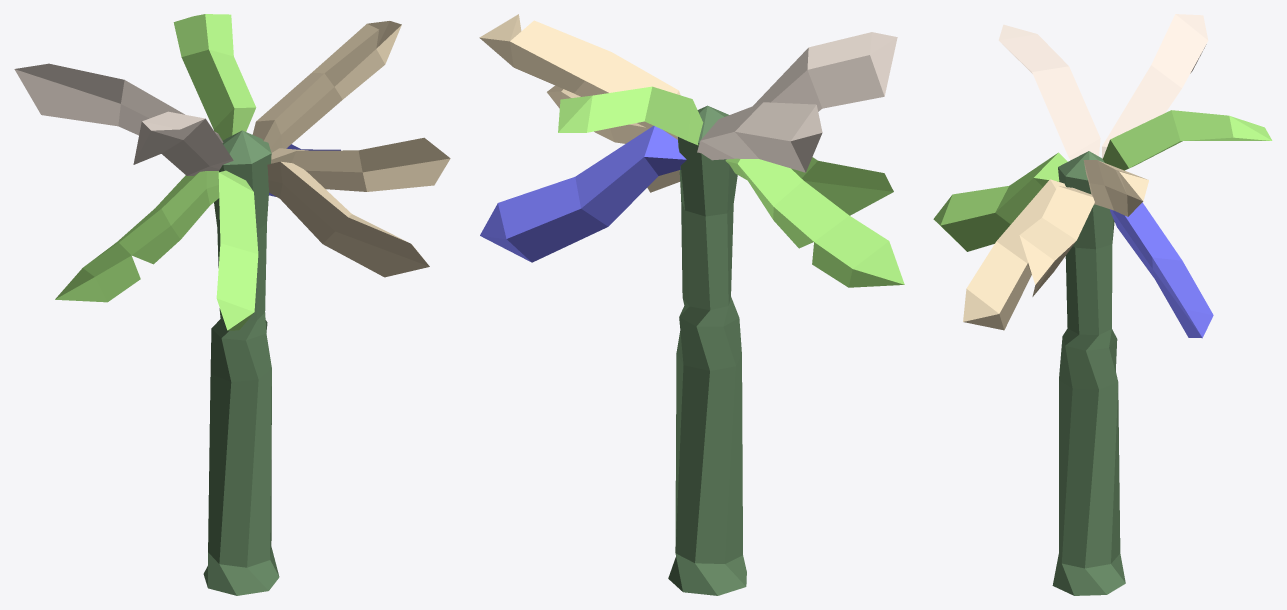
Rendered from 008_Palm.fbx.
3 renders of one model, left to right at view 1: azimuth 30°, elevation 25°; view 2: azimuth 150°, elevation 25°; view 3: azimuth 270°, elevation 25°, orthographic. The views are drawn at different scales.
Visible parts, largest first — view 1: Palm; view 2: Palm; view 3: Palm.
Part boxes in pixels (x1=…): Palm: x1=14, y1=14, x2=450, y2=595; Palm: x1=479, y1=14, x2=904, y2=595; Palm: x1=933, y1=14, x2=1272, y2=595.
Size of the model in its own units: 132 by 174 by 107.
